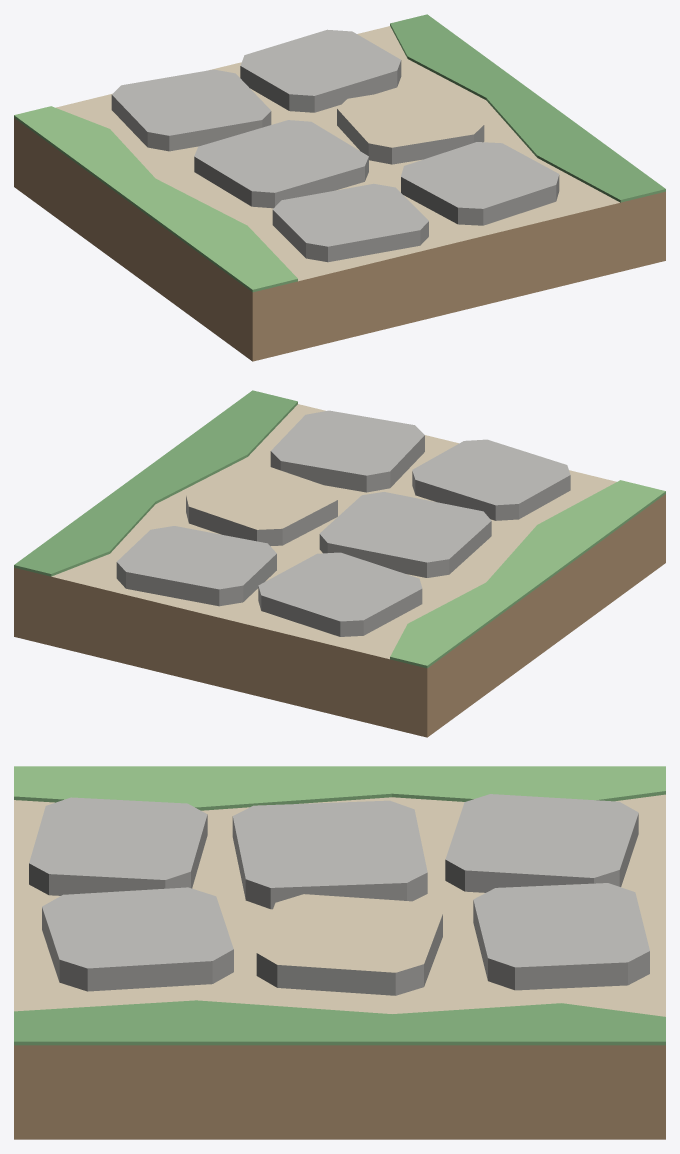
Rendered from tile_path.glb.
3 renders of one model, top to bottom at view 1: azimuth 30°, elevation 25°; view 2: azimuth 150°, elevation 25°; view 3: azimuth 270°, elevation 25°, orthographic. The views are drawn at different scales.
Visible parts, largest first — view 1: tile_path; view 2: tile_path; view 3: tile_path.
Boxes of the visible parts, <box> form: tile_path: <box>14,14,665,361</box>; tile_path: <box>14,390,665,737</box>; tile_path: <box>14,766,665,1139</box>.
Bounding box in the file's own units: 1 × 0.2 × 1.
